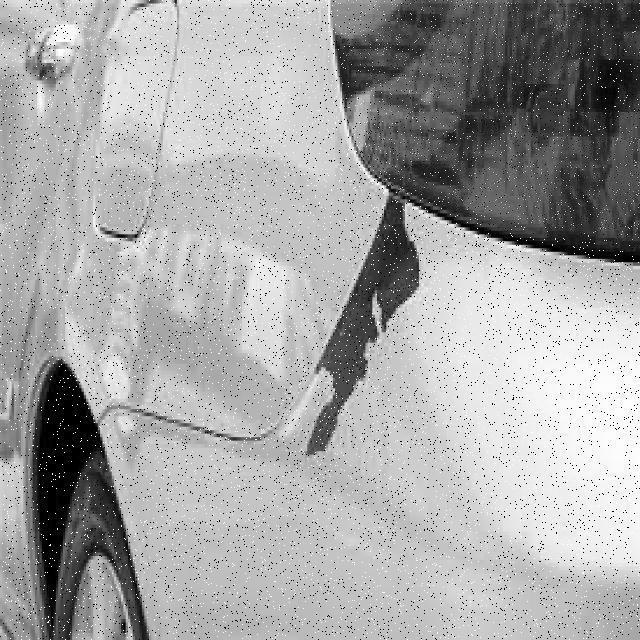rear-bumper-dent: (101, 323, 638, 638)
